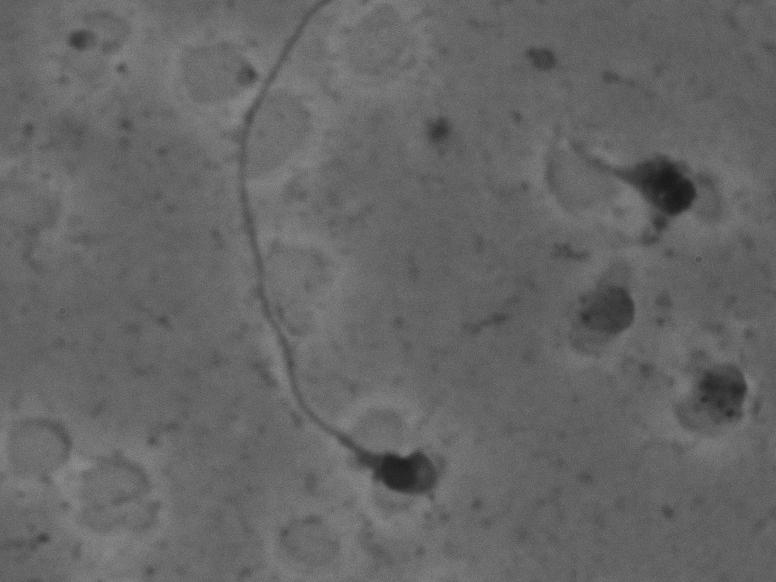Abnormal: (189, 18, 443, 506), (522, 100, 735, 234)
